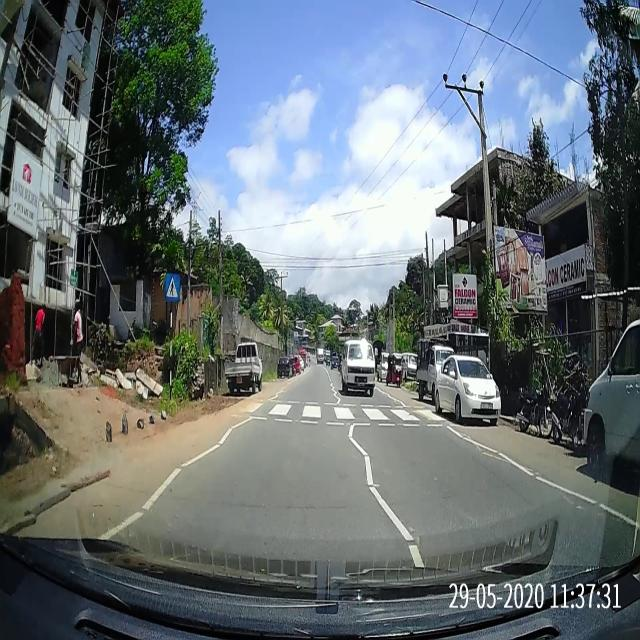Crosswalk: (226, 396, 462, 428)
